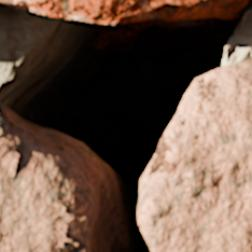brick: (0, 0, 248, 23)
broken_brick: (139, 59, 251, 251), (0, 105, 107, 251)
crack: (0, 0, 251, 251)
